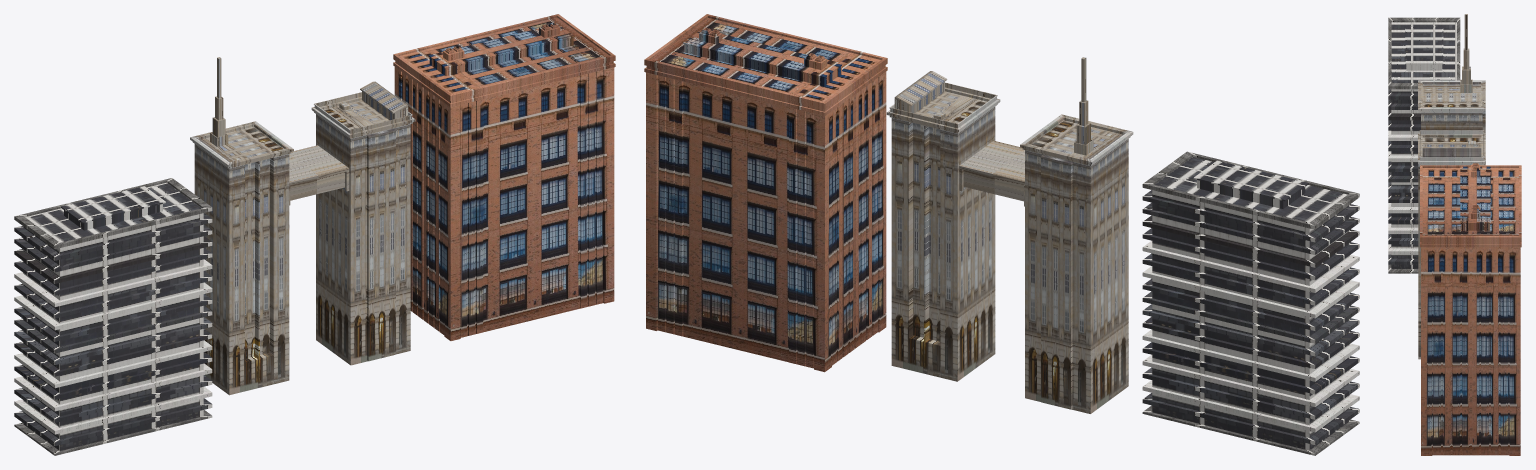
Rendered from zda.glb.
3 views of the same model, side by side, from view 1: azimuth 30°, elevation 25°; view 2: azimuth 150°, elevation 25°; view 3: azimuth 270°, elevation 25° (orthographic). The views are drawn at different scales.
Visible parts, largest first — view 1: Highrise_14.001, highrise_13.001, Highrise_12.001; view 2: Highrise_14.001, highrise_13.001, Highrise_12.001; view 3: Highrise_14.001, Highrise_12.001, highrise_13.001.
Boxes of the visible parts, x1,y1,x2,y2 form: Highrise_14.001: (393, 14, 615, 340); highrise_13.001: (190, 57, 415, 395); Highrise_12.001: (14, 178, 212, 455); Highrise_14.001: (644, 14, 887, 372); highrise_13.001: (886, 57, 1133, 413); Highrise_12.001: (1142, 151, 1359, 455); Highrise_14.001: (1420, 163, 1521, 455); Highrise_12.001: (1388, 17, 1460, 273); highrise_13.001: (1418, 14, 1485, 359).
Bounding box in the file's own units: 18.39 × 9.58 × 4.12.
3 materials, 3 textured.
